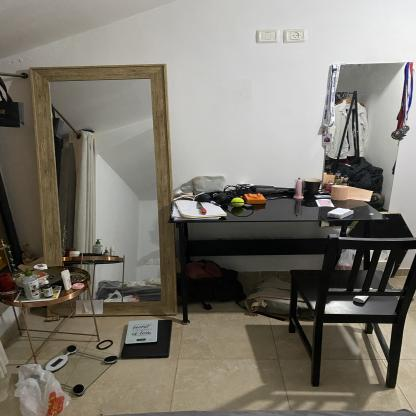Knife: (182, 180, 222, 232)
scissors: (69, 274, 80, 283)
